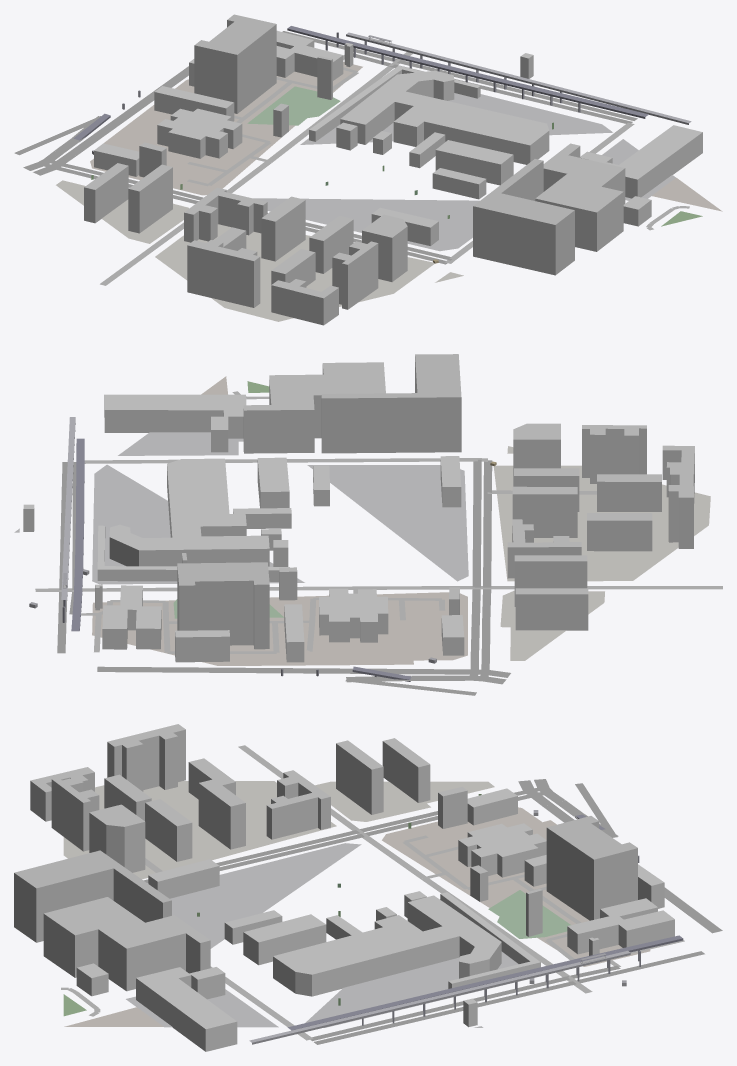
The picture shows the model from 3 angles, top to bottom: view 1: azimuth 30°, elevation 25°; view 2: azimuth 150°, elevation 25°; view 3: azimuth 270°, elevation 25°; orthographic projection. The views are drawn at different scales.
Size of the model in its own units: 633 by 62.75 by 604.
